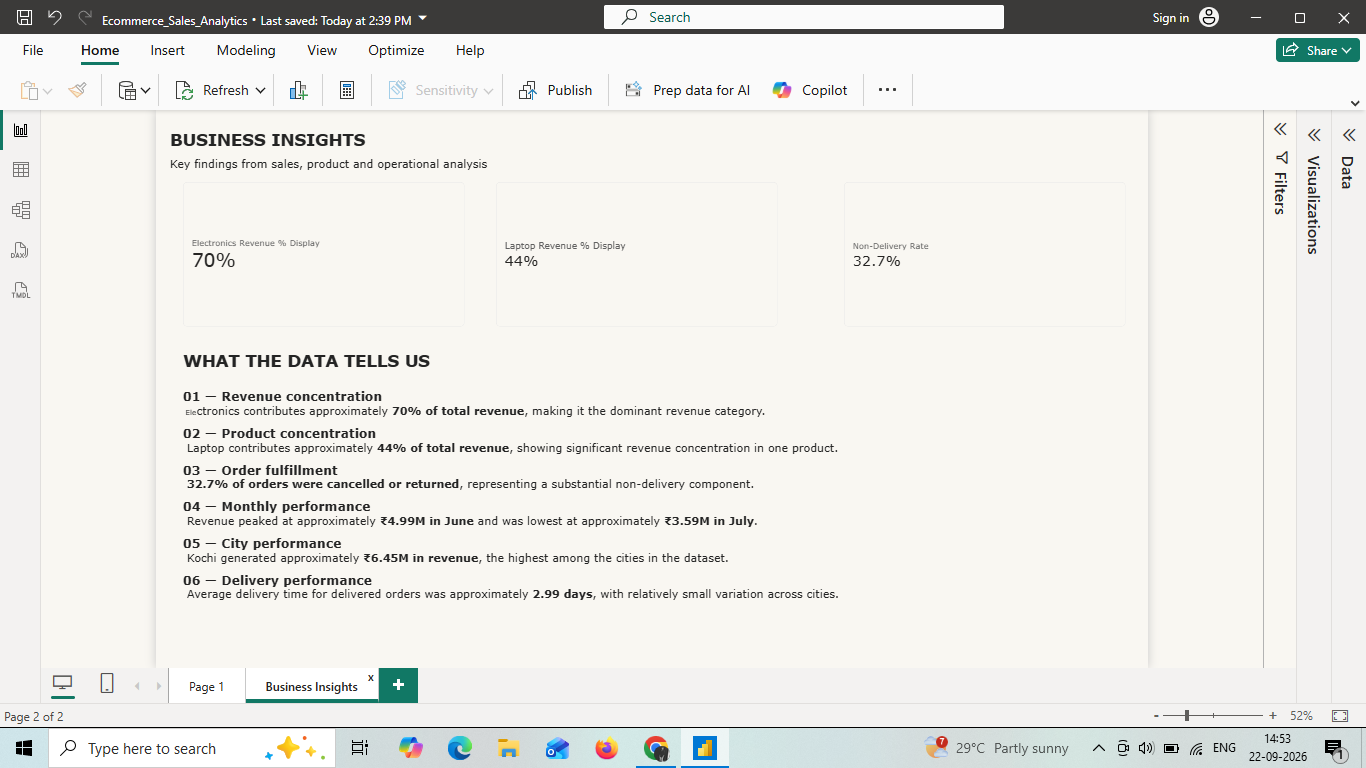

What the dashboard file says about the page in this screenshot:
{"tool":"powerbi","page":{"name":"Business Insights","canvas":[1920,1080],"ordinal":1},"visuals":[{"type":"textbox","box":[10,0,280,280],"z":0},{"type":"textbox","box":[27.5,37.5,410,102.5],"z":1000},{"type":"textbox","box":[27.5,90,640,280],"z":2000},{"type":"cardVisual","fields":{"Data":["ecommerce_sales_cleaned.Electronics Revenue % Display"]},"box":[52.5,140,545,280],"z":3000},{"type":"cardVisual","fields":{"Data":["ecommerce_sales_cleaned.Laptop Revenue % Display"]},"box":[657.5,140,545,280],"z":3001},{"type":"cardVisual","fields":{"Data":["ecommerce_sales_cleaned.Non-Delivery Rate"]},"box":[1332.5,140,545,280],"z":3002},{"type":"textbox","box":[52.5,465,545,280],"z":3004},{"type":"textbox","box":[52.5,540,1380,430],"z":3005}]}

Visuals, with their boxes on the page's 1920x1080 design canvas (x1, y1, x2, y2). These are canvas units, not pixel positions in the 1366x768 screenshot, which may show the page scaled, cropped or inside an application window:
textbox: Rect(10, 0, 290, 280)
textbox: Rect(28, 38, 438, 140)
textbox: Rect(28, 90, 668, 370)
cardVisual - ecommerce_sales_cleaned.Electronics Revenue % Display: Rect(52, 140, 598, 420)
cardVisual - ecommerce_sales_cleaned.Laptop Revenue % Display: Rect(658, 140, 1202, 420)
cardVisual - ecommerce_sales_cleaned.Non-Delivery Rate: Rect(1332, 140, 1878, 420)
textbox: Rect(52, 465, 598, 745)
textbox: Rect(52, 540, 1432, 970)
